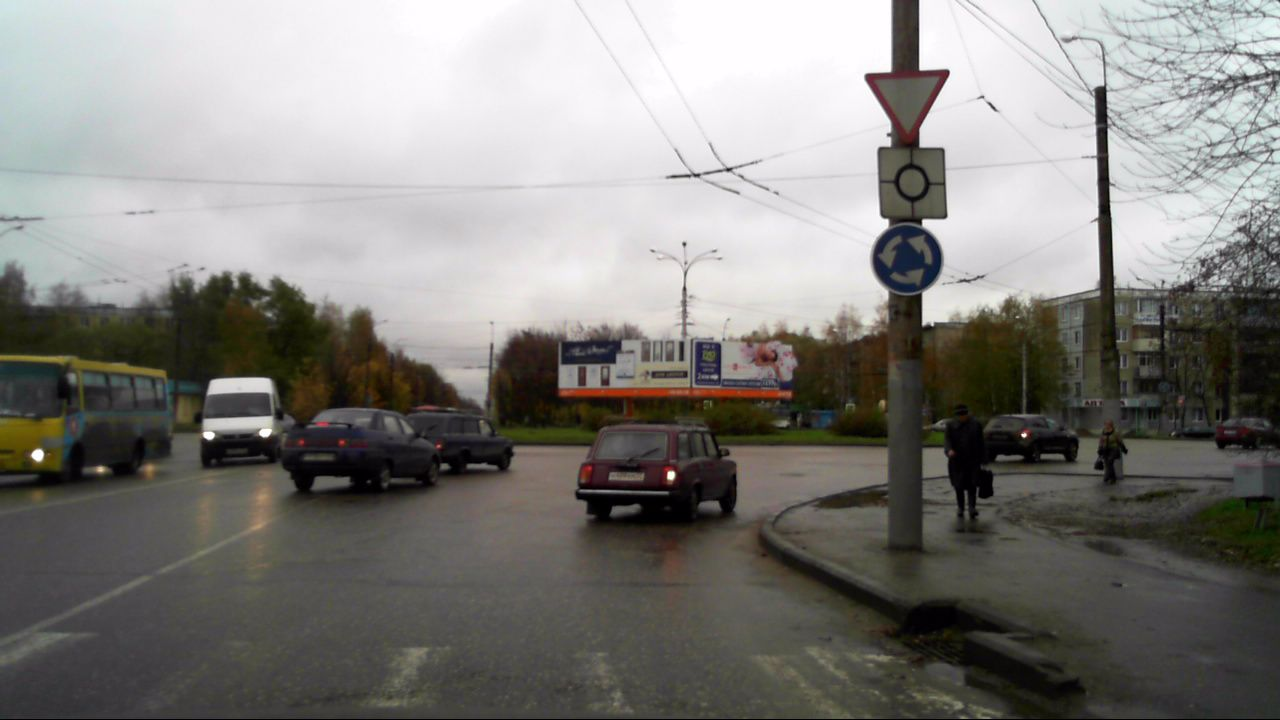Round-About: (870, 224, 943, 297)
